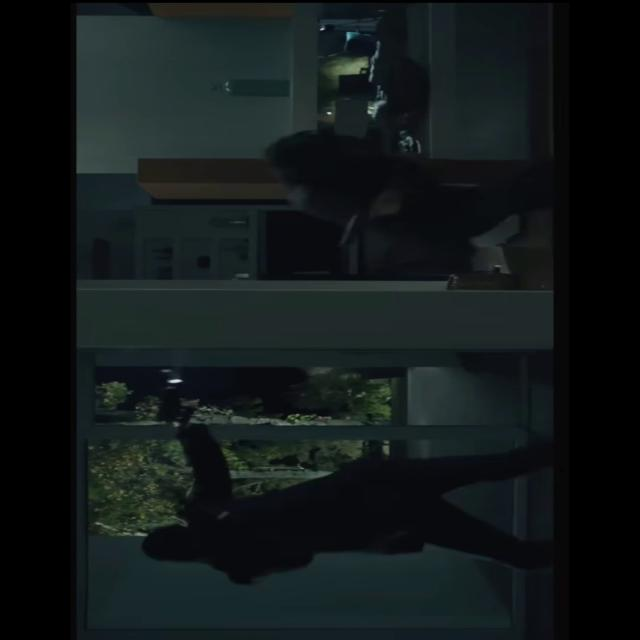weapons: (138, 372, 218, 434)
